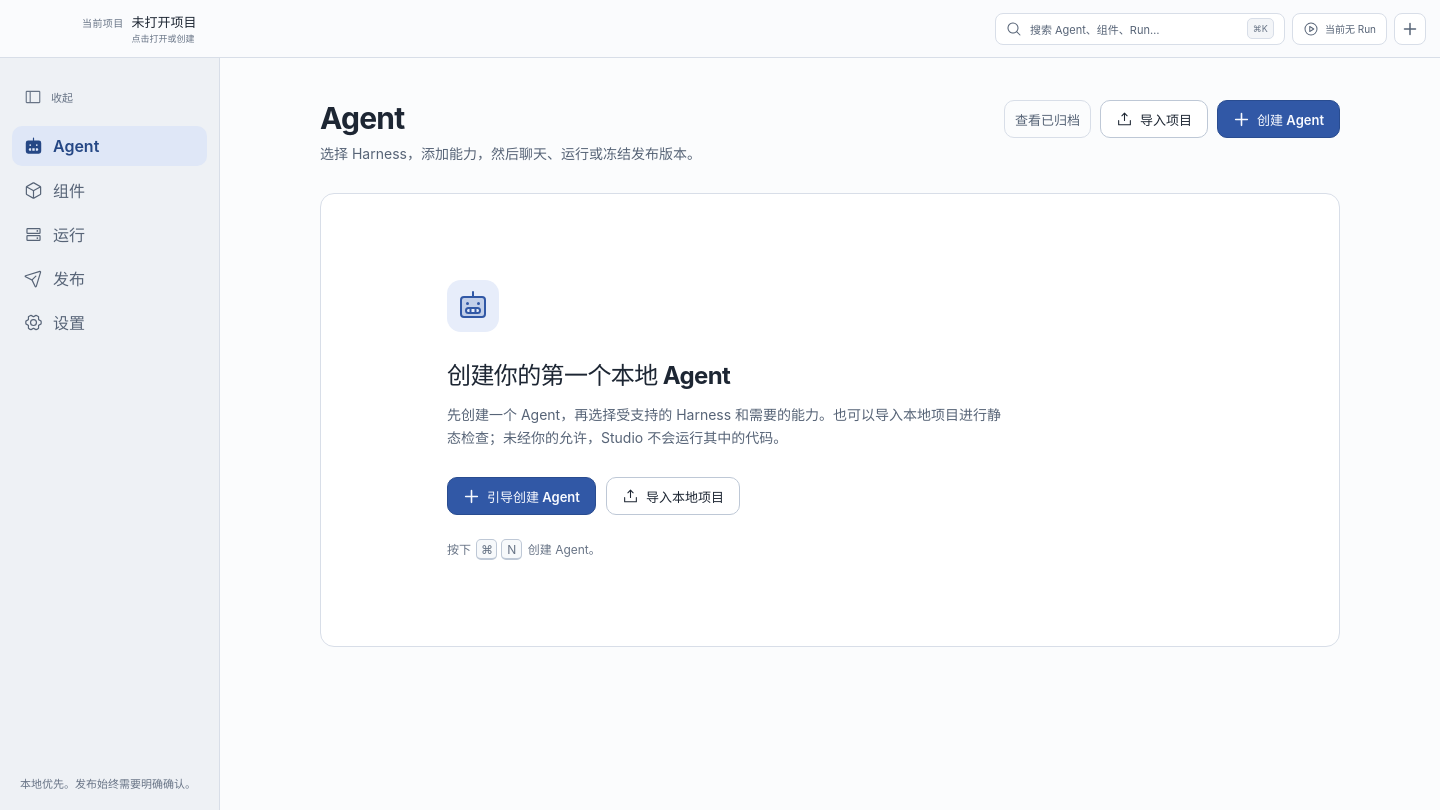
Test: App › opens the product publishing workspace without fabricating a remote result
Step 1. Click the button "发布" → point(110, 278), box 12,258 -> 207,298
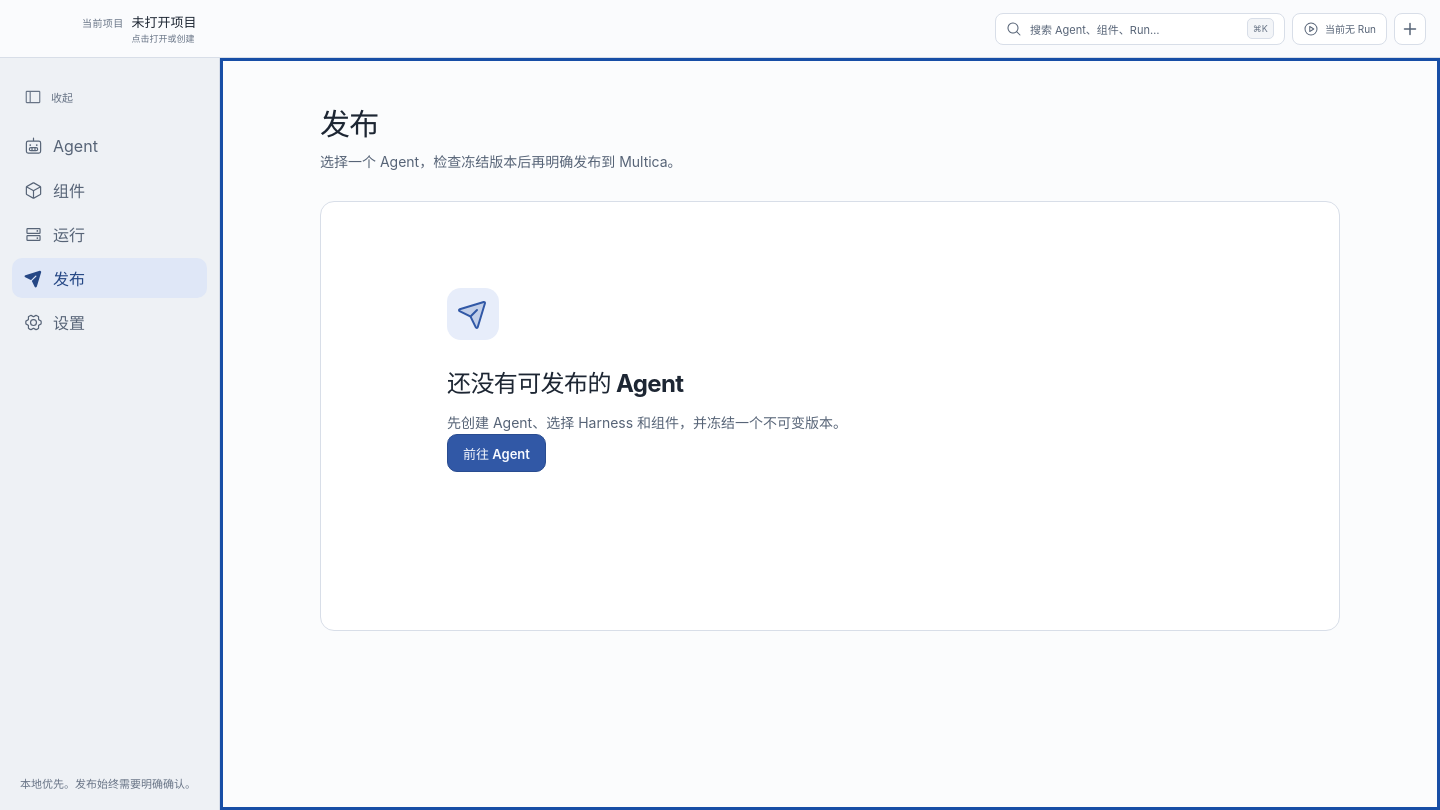
Expected: the heading "发布" is shown, 320,106 -> 378,142
Expected: the heading "还没有可发布的 Agent" is shown, 447,364 -> 684,399
Expected: the text "先创建 Agent、选择 Harness 和组件，并冻结一个不可变版本。" is shown, 447,411 -> 847,434
